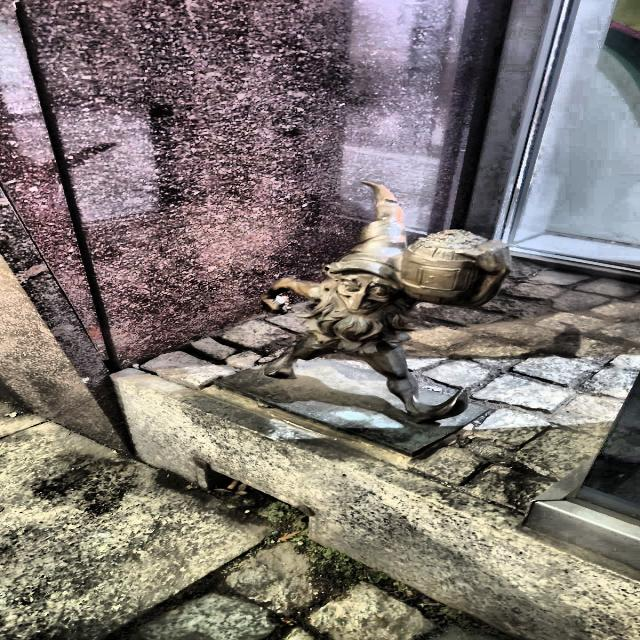Leprykonus: (252, 172, 521, 430)
